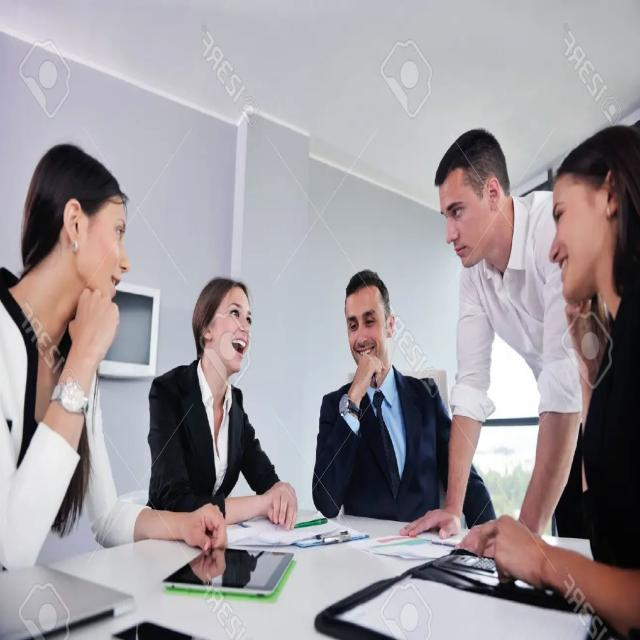adult: (0, 140, 229, 573), (465, 131, 640, 640), (401, 132, 578, 560), (310, 271, 495, 532), (143, 275, 299, 536)
